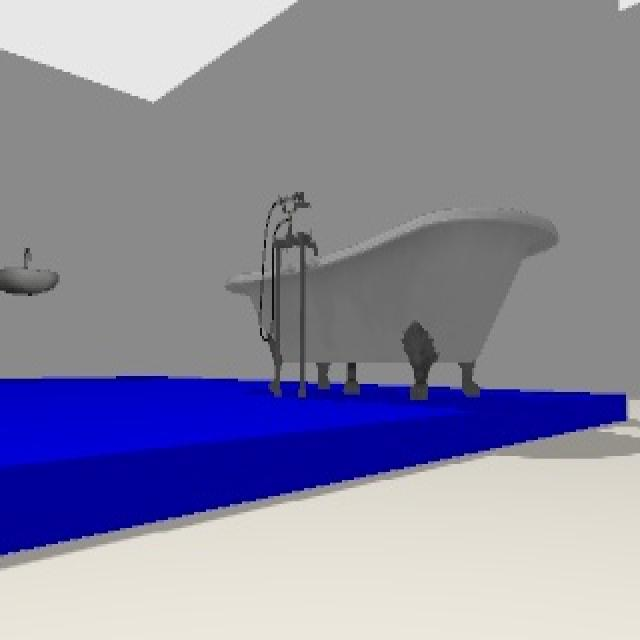bathtub: (232, 188, 560, 405)
